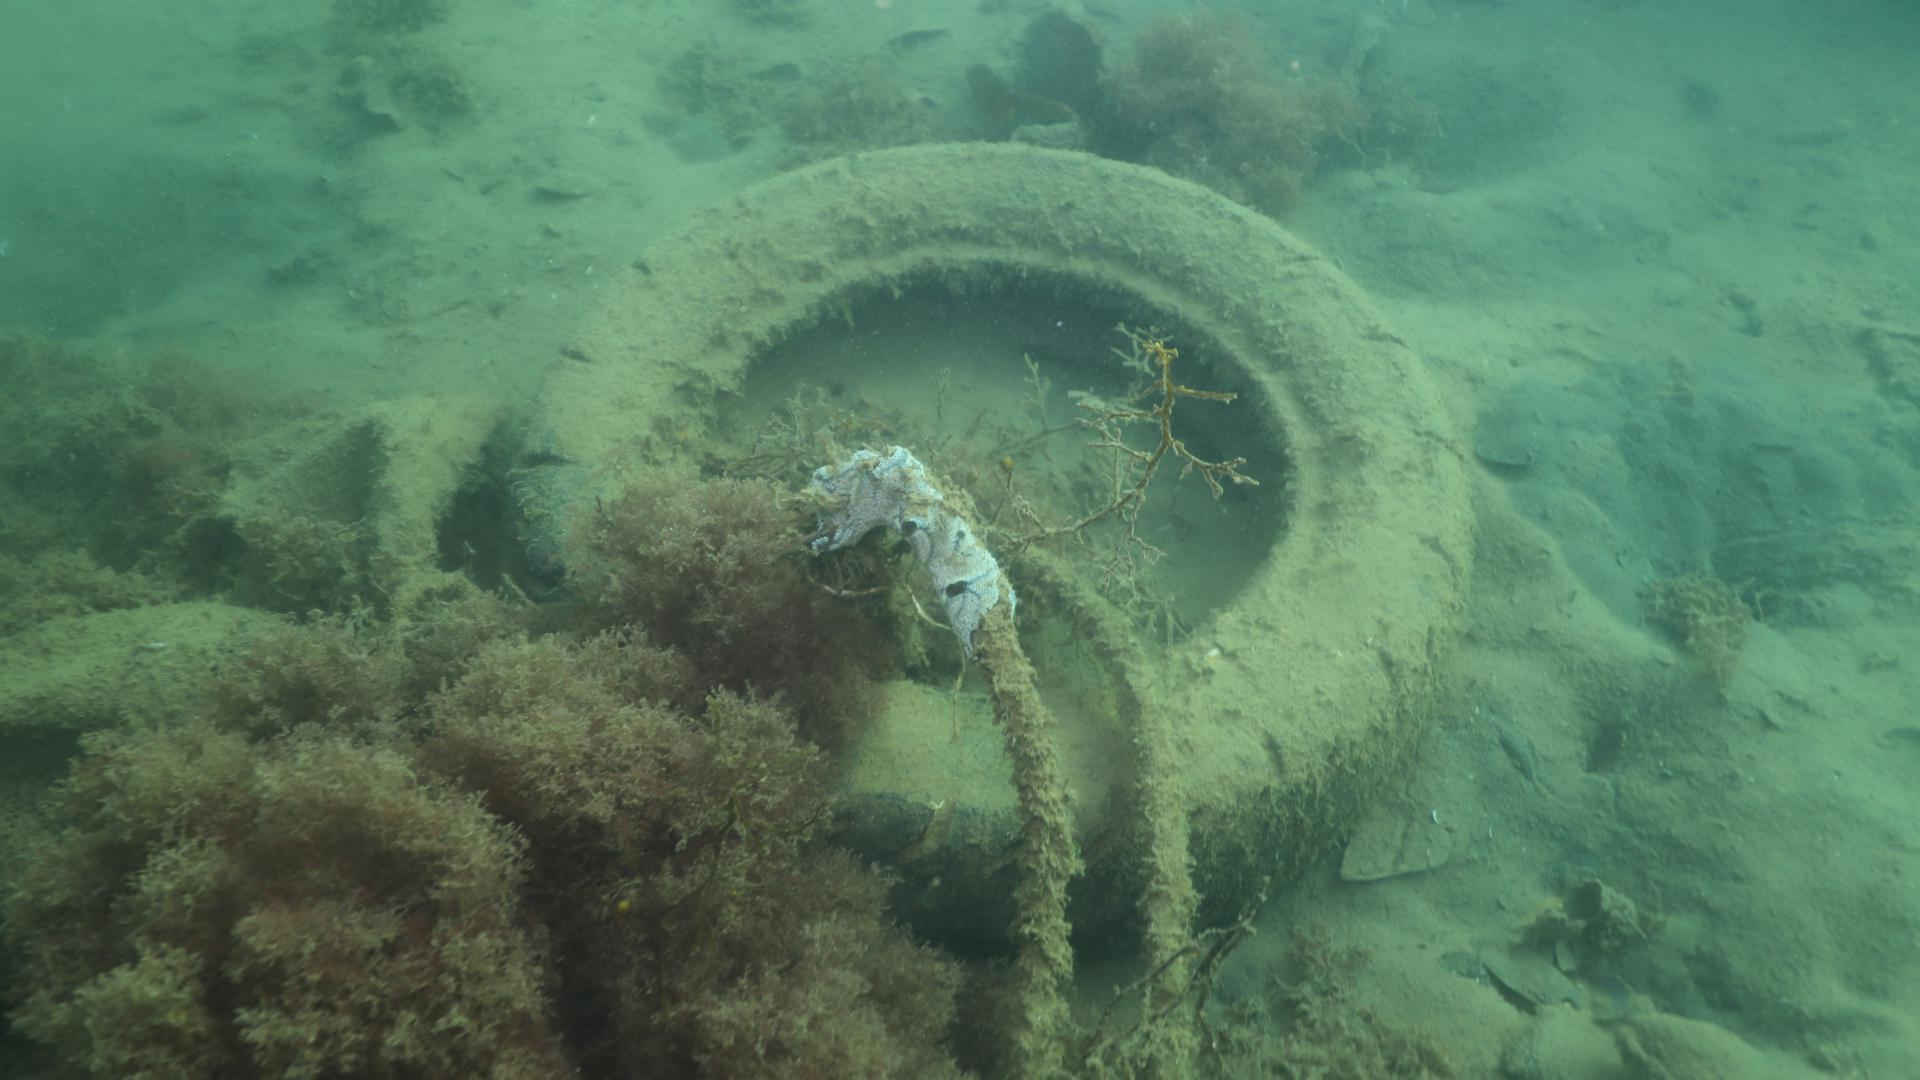bundle of ropes: (972, 524, 1195, 1080)
tire: (502, 140, 1472, 967)
